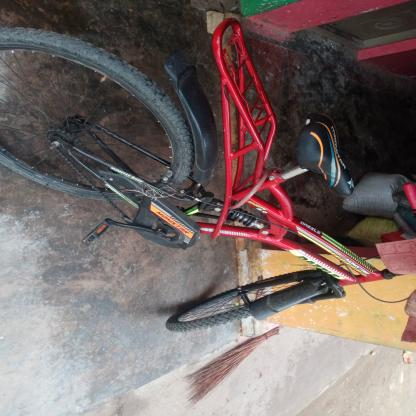bike: (4, 0, 415, 369)
